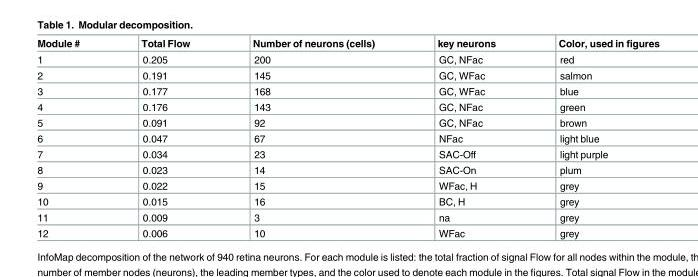table: (36, 36, 658, 238)
table column: (220, 36, 405, 238), (526, 36, 658, 238), (405, 36, 526, 238), (109, 36, 220, 238), (36, 36, 109, 238)
table column header: (36, 36, 658, 50)
table row: (36, 50, 658, 66), (36, 66, 658, 82), (36, 82, 658, 98), (36, 98, 658, 114), (36, 114, 658, 130), (36, 145, 658, 161), (36, 161, 658, 177), (36, 177, 658, 193), (36, 208, 658, 224), (36, 130, 658, 145), (36, 193, 658, 208), (36, 36, 658, 50), (36, 224, 658, 238)
